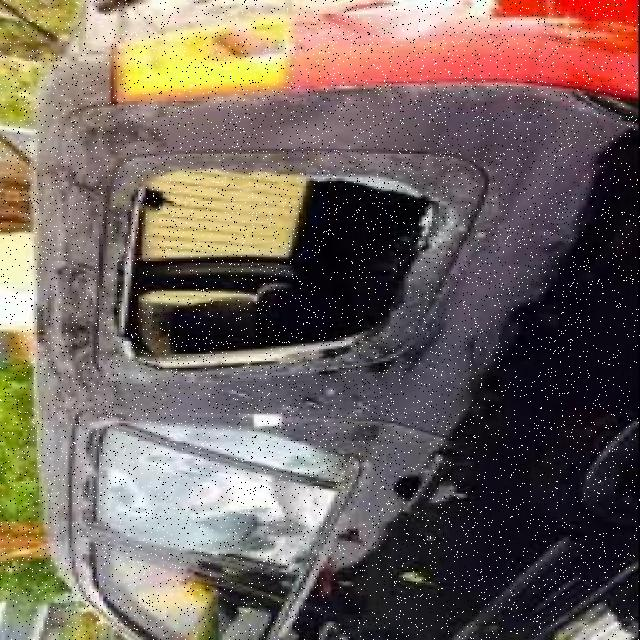damage: (112, 158, 465, 380)
